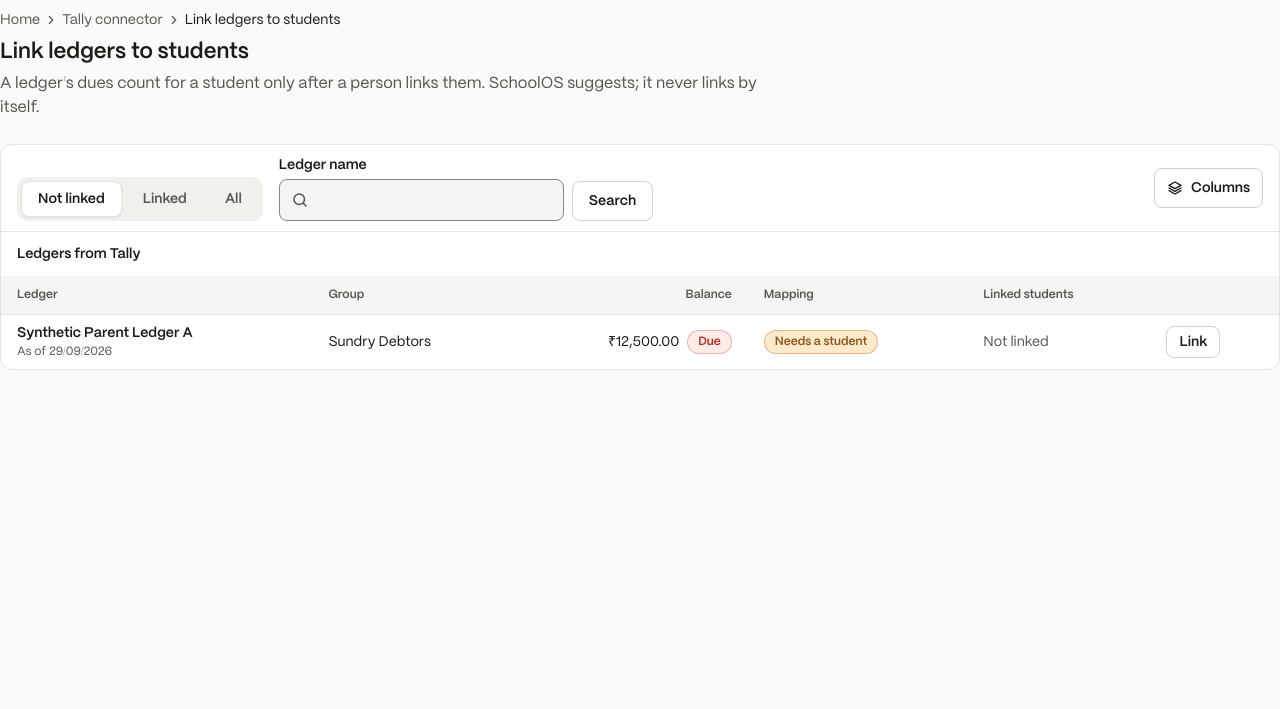
Scenario: ledger links (US-1803, FR-TALLY-006) › lists the ledgers not linked yet and links one to a suggested student
The image size is (1280, 709).
Expected: the text "Synthetic Parent Ledger A" is shown, [17, 326, 193, 340]
Expected: the text "Due" is shown, [687, 330, 732, 354]
What coordinates should you click on to do the following:
click the button "Link"
I would click on:
 (1193, 342)
Its box is [1166, 326, 1220, 358].
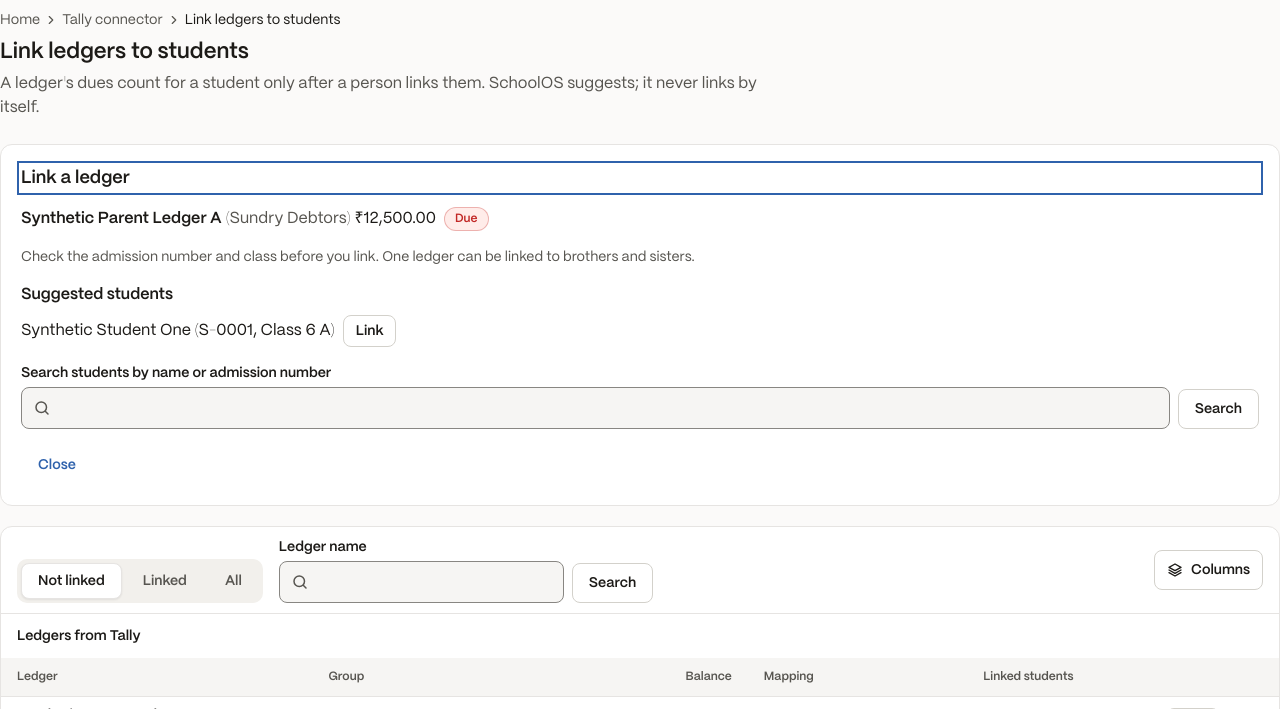
Now the text "Check the admission number and class before you link. One ledger can be linked to brothers and sisters." is shown, box [21, 250, 695, 264]
What coordinates should you click on to do the following:
click the button with aria-label "Link to Synthetic Student One (S-0001, Class 6 A)"
I would click on:
 (370, 331)
Its box is [343, 315, 396, 347].
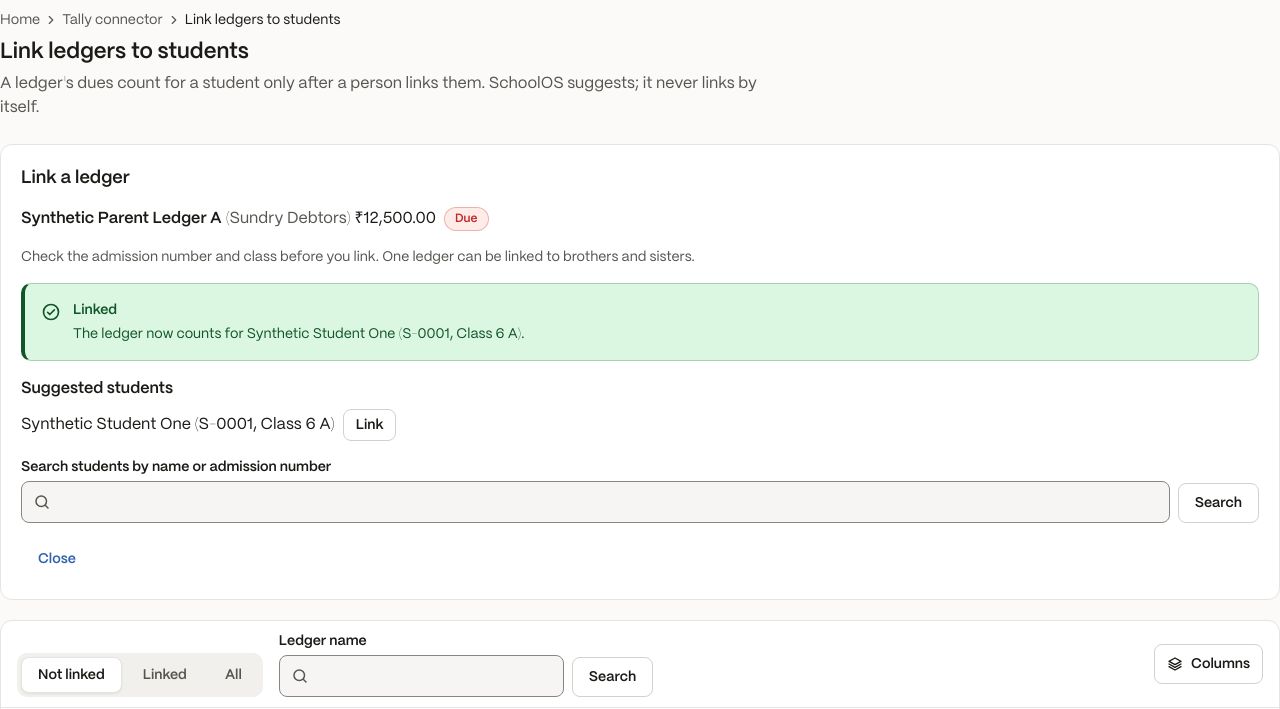
Now the text "Linked" is shown, box [73, 303, 117, 317]
